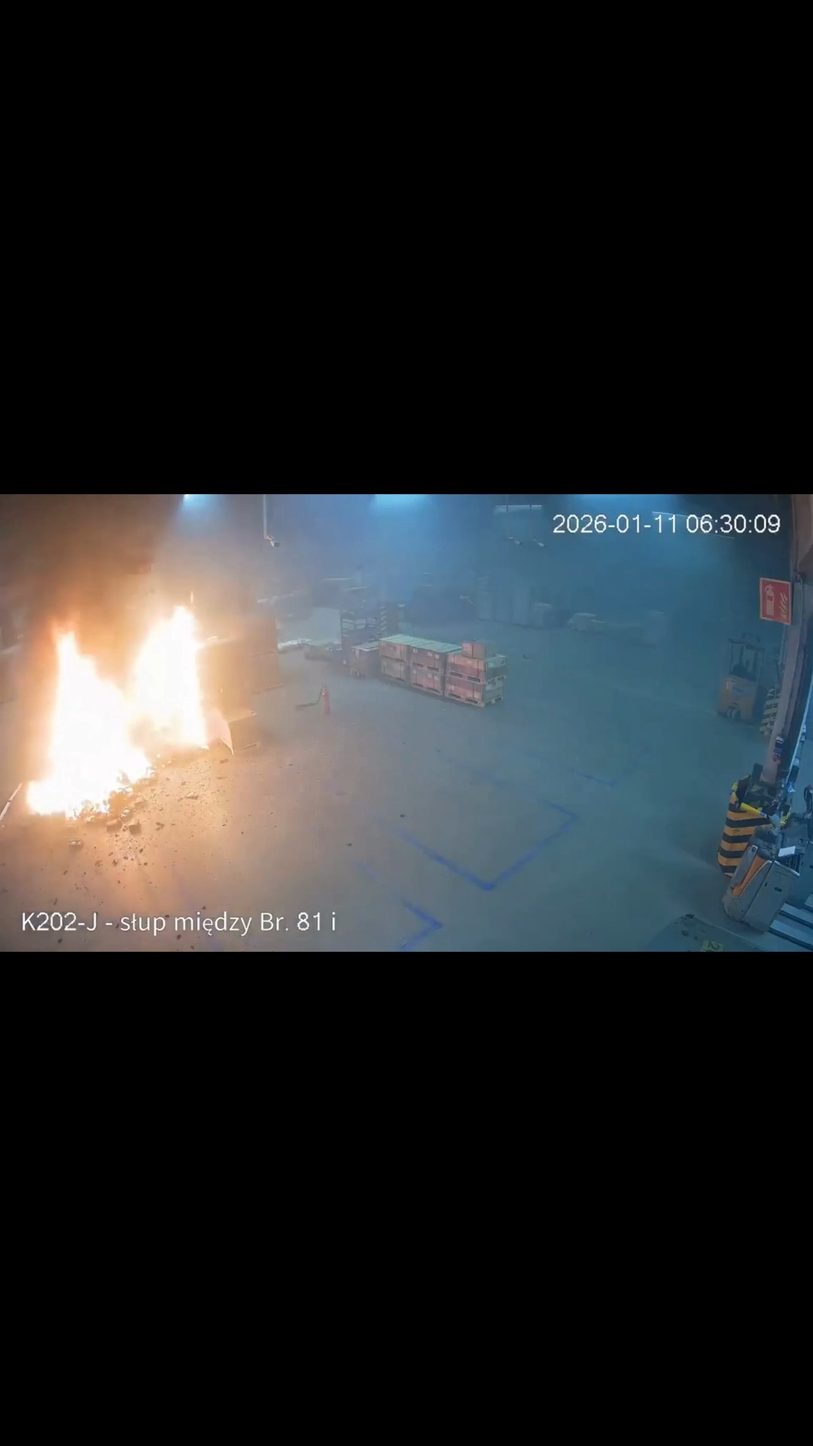fire: (24, 599, 232, 825)
smoke: (0, 496, 293, 701)
